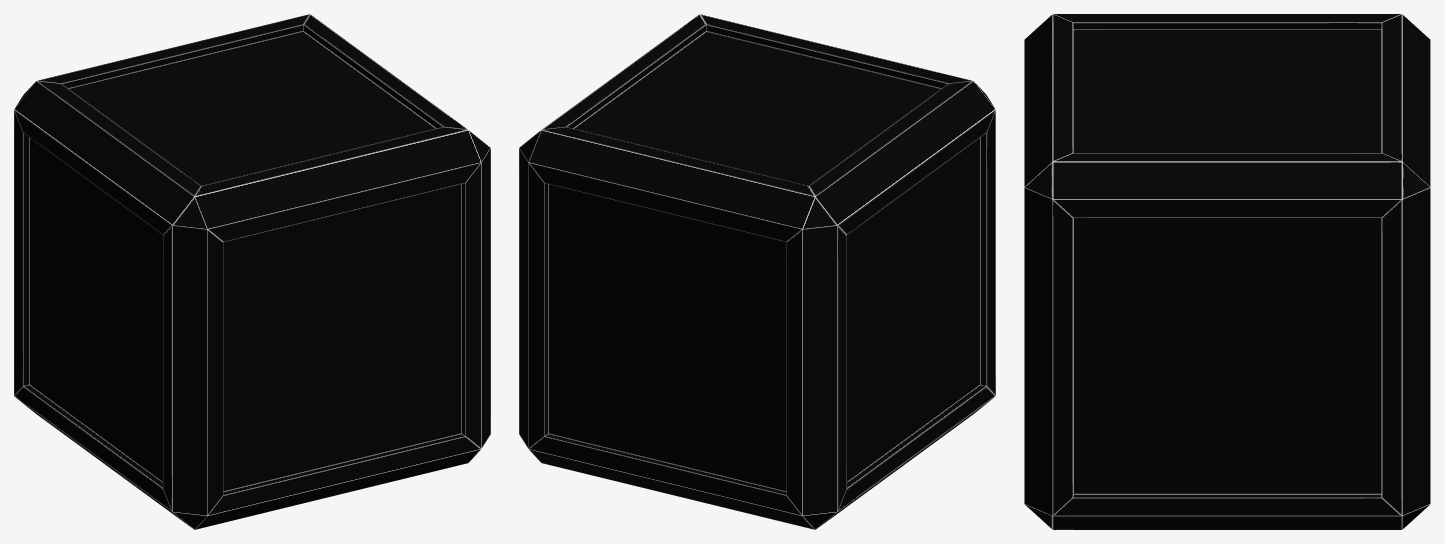
The picture shows the model from 3 angles, left to right: view 1: azimuth 30°, elevation 25°; view 2: azimuth 150°, elevation 25°; view 3: azimuth 270°, elevation 25°; orthographic projection. The views are drawn at different scales.
Visible parts, largest first — view 1: Würfel; view 2: Würfel; view 3: Würfel.
Part boxes in pixels (x1=…): Würfel: x1=14, y1=14, x2=490, y2=529; Würfel: x1=519, y1=14, x2=995, y2=529; Würfel: x1=1024, y1=14, x2=1430, y2=529.
Bounding box in the file's own units: 100 × 100 × 100.
1 material, 1 textured.
